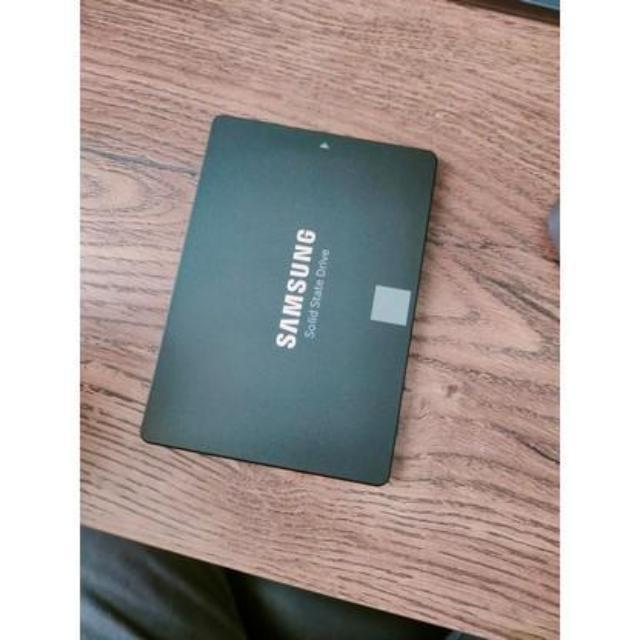DISK: (124, 90, 453, 505)
